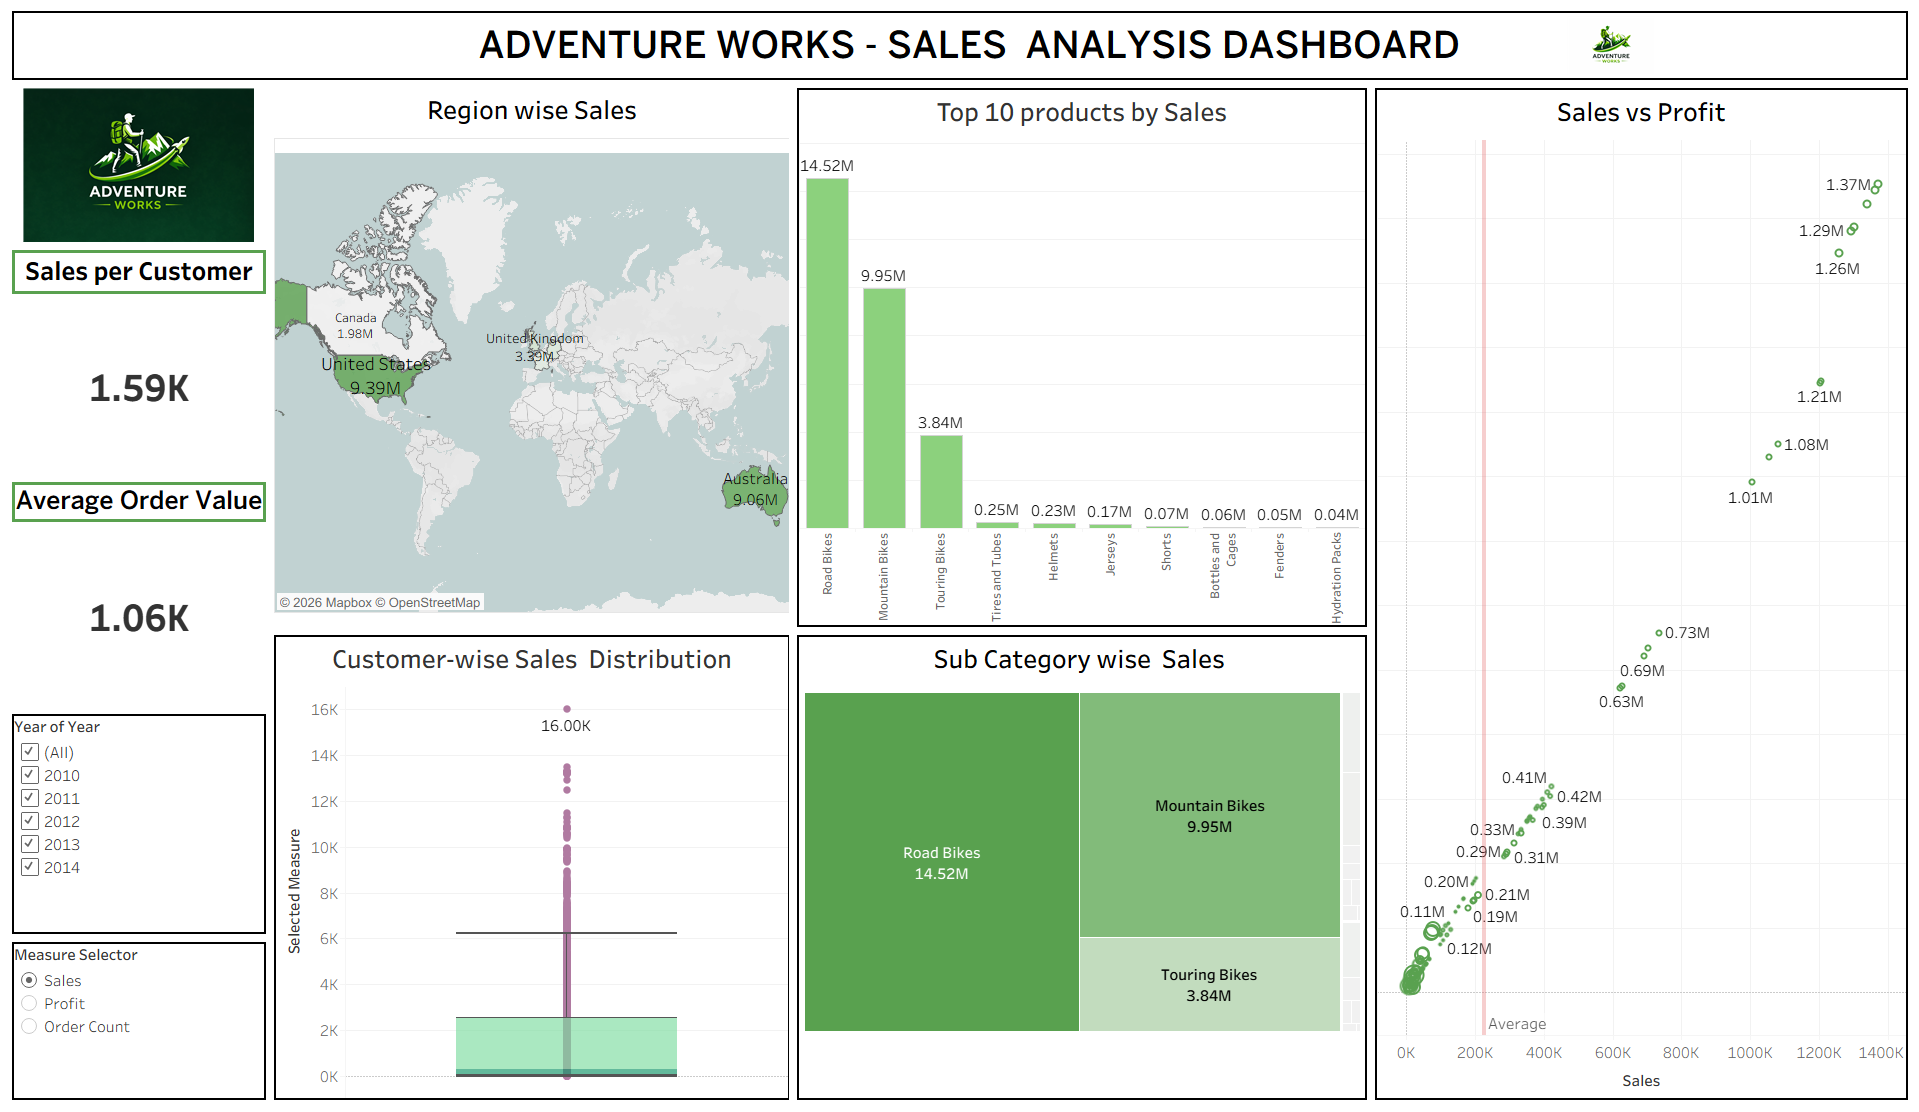

This screenshot's page, from the dashboard's own definition file:
{"tool":"tableau","page":{"name":"Dashboard 2","canvas":[1000,1000],"units":"permille","ordinal":1},"visuals":[{"type":"title","box":[4.8,8.7,990.3,83.6]},{"type":"image","param":"Image/ChatGPT Image Dec 30, 2025, 07_31_40 PM.png","box":[812.9,15.2,52.5,69.5]},{"type":"image","param":"Image/ChatGPT Image Dec 30, 2025, 07_20_44 PM.png","box":[4.8,92.3,136.2,143.1]},{"type":"worksheet","title":"Map","mark":"Multipolygon","box":[141,92.3,272.3,482.7]},{"type":"worksheet","title":"Pareto-style Bar","mark":"Bar","rows":["Calculation_1408771295559681"],"cols":["EnglishProductSubcategoryName"],"box":[413.3,92.3,300.5,482.7]},{"type":"worksheet","title":"PRODUCT VISUAL","mark":"Automatic","rows":["Calculation_0649008234672140"],"cols":["Calculation_0649008234020874"],"box":[713.9,92.3,281.3,899]},{"type":"worksheet","title":"KPI-4","mark":"Automatic","box":[4.8,235.4,136.2,204.2]},{"type":"worksheet","title":"KPI-5","mark":"Automatic","box":[4.8,439.6,136.2,204.9]},{"type":"worksheet","title":"Box Plot","mark":"Circle","rows":["Calculation_1408771295559681"],"box":[141,575,272.3,416.4]},{"type":"worksheet","title":"Tree Map","mark":"Automatic","box":[413.3,575,300.5,416.4]},{"type":"filter","title":"KPI-4","param":"[federated.039j6q5122f1bs16p8skw0r28obf].[yr:Calculation_0649008227635200:ok]","box":[4.8,644.5,136.2,200.9]},{"type":"parameter","param":"[Parameters].[Parameter 1]","box":[4.8,845.3,136.2,146]}]}

Visuals, with their boxes on the dashboard's canvas, which has no fixed pixel size, in thousandths of its width and height (x1, y1, x2, y2). These are canvas units, not pixel positions in the 1919x1112 screenshot, which may show the page scaled, cropped or inside an application window:
title: [5, 9, 995, 92]
image: [813, 15, 865, 85]
image: [5, 92, 141, 235]
"Map" worksheet (Multipolygon marks): [141, 92, 413, 575]
"Pareto-style Bar" worksheet (Bar marks): [413, 92, 714, 575]
"PRODUCT VISUAL" worksheet: [714, 92, 995, 991]
"KPI-4" worksheet: [5, 235, 141, 440]
"KPI-5" worksheet: [5, 440, 141, 644]
"Box Plot" worksheet (Circle marks): [141, 575, 413, 991]
"Tree Map" worksheet: [413, 575, 714, 991]
"KPI-4" filter: [5, 644, 141, 845]
parameter: [5, 845, 141, 991]
